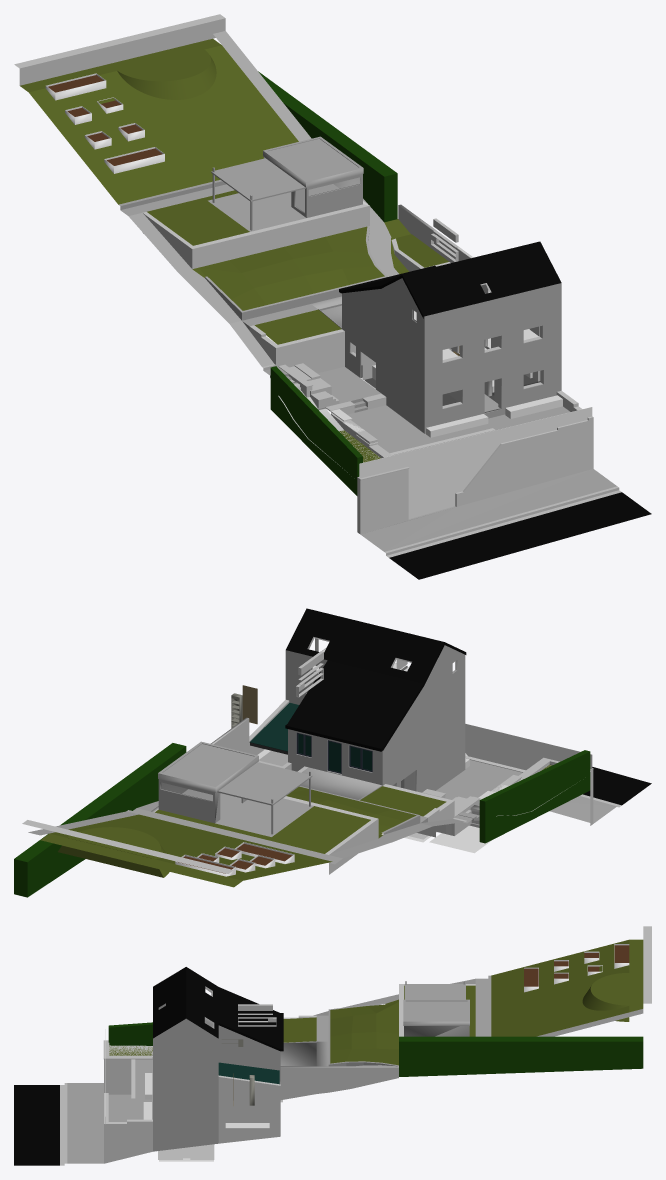
File: maison_ivoz.gltf
3 views of the same model, one above another, from view 1: azimuth 30°, elevation 25°; view 2: azimuth 150°, elevation 25°; view 3: azimuth 270°, elevation 25° (orthographic). The views are drawn at different scales.
Visible parts, largest first — view 1: Herbe, Murs, Object022, Chemin, rue001, Toiture, Rectangle018, trottoir, Muret, Muret003, Rectangle012, Rectangle019 (+19 smaller); view 2: Toiture, Murs, Herbe, Rectangle019, Rectangle012, Chemin, Pelouse, Rectangle018, Pergolas, Cone001, Terrasse, Object005_Merge (+19 smaller); view 3: Herbe, Murs, Rectangle019, Toiture, rue001, Mur mitoyen, Chemin, Object022, trottoir, Object036, Cone001, Object005_Merge (+16 smaller).
Boxes of the visible parts, bbox=[...] form: Herbe: bbox=[20, 38, 410, 310]; Murs: bbox=[342, 278, 561, 433]; Object022: bbox=[357, 391, 593, 534]; Chemin: bbox=[118, 31, 398, 366]; rue001: bbox=[389, 492, 651, 579]; Toiture: bbox=[339, 241, 561, 318]; Rectangle018: bbox=[359, 407, 592, 518]; trottoir: bbox=[361, 469, 616, 551]; Muret: bbox=[143, 201, 369, 269]; Muret003: bbox=[14, 14, 225, 85]; Rectangle012: bbox=[270, 366, 362, 495]; Rectangle019: bbox=[258, 71, 397, 222]; Toiture: bbox=[285, 608, 466, 751]; Murs: bbox=[285, 645, 465, 792]; Herbe: bbox=[40, 786, 416, 887]; Rectangle019: bbox=[14, 743, 186, 897]; Rectangle012: bbox=[479, 750, 590, 843]; Chemin: bbox=[28, 767, 464, 864]; Pelouse: bbox=[155, 806, 370, 853]; Rectangle018: bbox=[465, 723, 592, 770]; Pergolas: bbox=[217, 762, 312, 805]; Cone001: bbox=[58, 827, 169, 877]; Terrasse: bbox=[215, 798, 313, 836]; Object005_Merge: bbox=[163, 744, 253, 785]; Herbe: bbox=[330, 939, 643, 1065]; Murs: bbox=[153, 1018, 280, 1151]; Rectangle019: bbox=[399, 1036, 643, 1076]; Toiture: bbox=[153, 967, 283, 1051]; rue001: bbox=[14, 1085, 59, 1165]; Mur mitoyen: bbox=[218, 1075, 280, 1143]; Chemin: bbox=[280, 975, 643, 1066]; Object022: bbox=[104, 1059, 152, 1163]; trottoir: bbox=[67, 1083, 103, 1163]; Object036: bbox=[280, 1066, 398, 1099]; Cone001: bbox=[582, 973, 629, 1021]; Object005_Merge: bbox=[405, 1001, 467, 1020].
Size of the model in its own units: 19.06 by 14.23 by 50.79.
